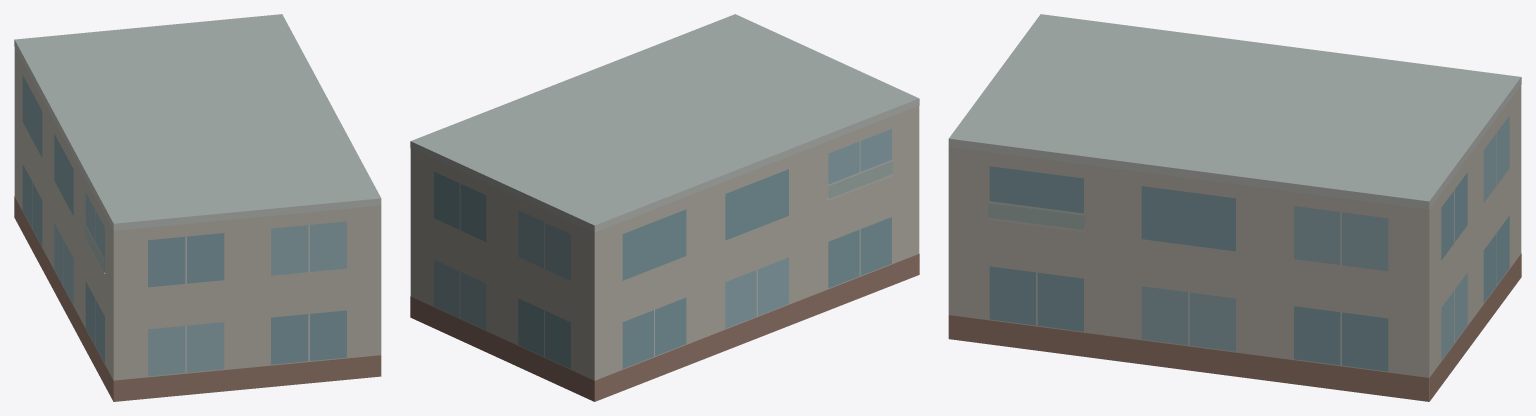
The model's file is survey-upis-32985358.glb.
3 views of the same model, side by side, from view 1: azimuth 30°, elevation 25°; view 2: azimuth 150°, elevation 25°; view 3: azimuth 270°, elevation 25° (orthographic). The views are drawn at different scales.
Visible parts, largest first — view 1: survey-upis-32985358.tmp; view 2: survey-upis-32985358.tmp; view 3: survey-upis-32985358.tmp.
Part boxes in pixels (<box>): survey-upis-32985358.tmp: <box>14,14,381,401</box>; survey-upis-32985358.tmp: <box>410,14,919,401</box>; survey-upis-32985358.tmp: <box>948,14,1521,401</box>.
Size of the model in its own units: 12.25 by 6.1 by 15.81.
